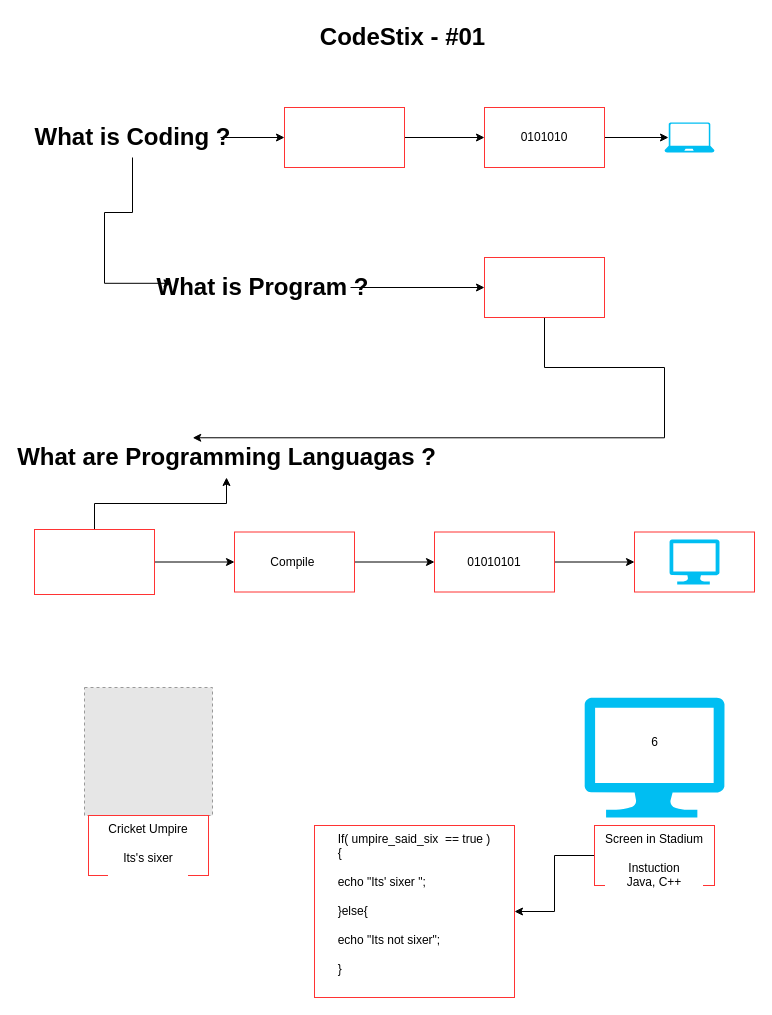
The diagram is 772 pixels wide and 1015 high, and some of its shapes have lost their labels. Grey dashed boxes stand in for pictures. The centre of each missing label's shape, as x and y in pixels:
"Eg. Java, C++, PHP, Kotlin" belongs at [94,561].
"ITs a process instrctions transfom into a language," belongs at [344,137].
"Set of Instructions" belongs at [544,287].
